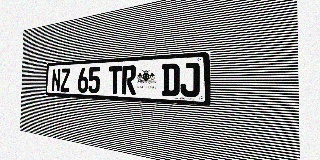5: (88, 67, 100, 93)
6: (77, 67, 88, 93)
D: (162, 63, 180, 97)
J: (180, 62, 200, 97)
N: (51, 69, 61, 92)
R: (122, 65, 136, 95)
T: (108, 66, 122, 94)
Z: (60, 68, 70, 92)
